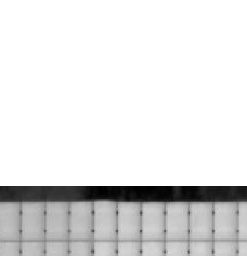solar: (91, 200, 120, 242), (114, 200, 143, 242), (138, 200, 167, 242), (162, 200, 191, 242), (187, 200, 216, 242), (210, 200, 239, 242), (19, 200, 47, 242), (43, 200, 71, 242), (67, 200, 95, 242)
